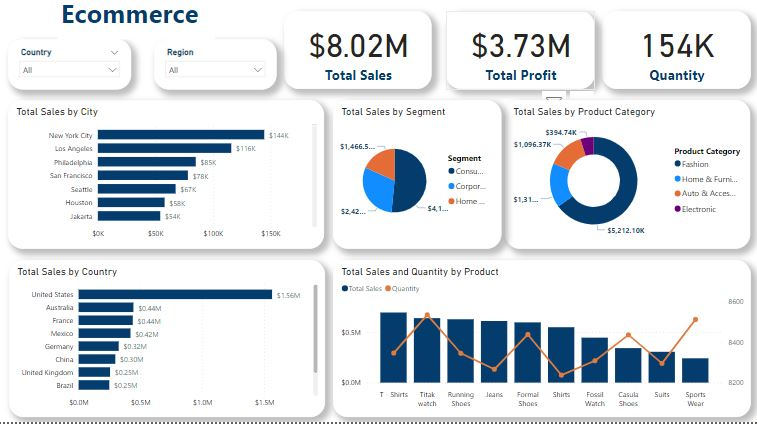

This screenshot's page, from the dashboard's own definition file:
{"tool":"powerbi","page":{"name":"Home","canvas":[1280,720],"ordinal":0},"visuals":[{"type":"card","fields":{"Values":["Dax measures.Total Sales"]},"box":[481.3,31.1,248.4,131.1],"z":0},{"type":"card","fields":{"Values":["Dax measures.Quantity"]},"box":[1016.1,31.1,250.1,131.1],"z":1000},{"type":"card","fields":{"Values":["Dax measures.Total Profit"]},"box":[753.9,31.1,250.1,131.1],"z":2000},{"type":"donutChart","fields":{"Category":["ecommerce.Product Category"],"Y":["Dax measures.Total Sales"]},"box":[853.9,179.4,412.3,250.1],"z":3000},{"type":"clusteredBarChart","fields":{"Y":["Dax measures.Total Sales"],"Category":["ecommerce.City"]},"box":[19,179.4,531.3,250.1],"z":4000},{"type":"clusteredBarChart","fields":{"Category":["ecommerce.Country"],"Y":["Dax measures.Total Sales"]},"box":[20.7,448.5,531.3,263.9],"z":5000},{"type":"pieChart","fields":{"Category":["ecommerce.Segment"],"Y":["Dax measures.Total Sales"]},"box":[564.1,179.4,282.9,250.1],"z":6000},{"type":"lineStackedColumnComboChart","fields":{"Category":["ecommerce.Product"],"Y":["Dax measures.Total Sales"],"Y2":["Sum(ecommerce.Quantity)"]},"box":[564.1,448.5,702.1,263.9],"z":7000},{"type":"slicer","fields":{"Values":["ecommerce.Region"]},"box":[263.9,77.6,206,84.7],"z":7001},{"type":"slicer","fields":{"Values":["ecommerce.Country"]},"box":[19,77.6,207,84.5],"z":7003},{"type":"textbox","box":[103,0,263.9,77.6],"z":7004}]}

Visuals, with their boxes in screenshot pixels (x1, y1, x2, y2), scaled from the page's 1280x720 canvas onto the 757x424 screenshot:
card - Dax measures.Total Sales: crop(285, 18, 432, 96)
card - Dax measures.Quantity: crop(601, 18, 749, 96)
card - Dax measures.Total Profit: crop(446, 18, 594, 96)
donutChart - ecommerce.Product Category x Dax measures.Total Sales: crop(505, 106, 749, 253)
clusteredBarChart - Dax measures.Total Sales x ecommerce.City: crop(11, 106, 325, 253)
clusteredBarChart - ecommerce.Country x Dax measures.Total Sales: crop(12, 264, 326, 420)
pieChart - ecommerce.Segment x Dax measures.Total Sales: crop(334, 106, 501, 253)
lineStackedColumnComboChart - ecommerce.Product x Dax measures.Total Sales: crop(334, 264, 749, 420)
slicer - ecommerce.Region: crop(156, 46, 278, 96)
slicer - ecommerce.Country: crop(11, 46, 134, 95)
textbox: crop(61, 0, 217, 46)
